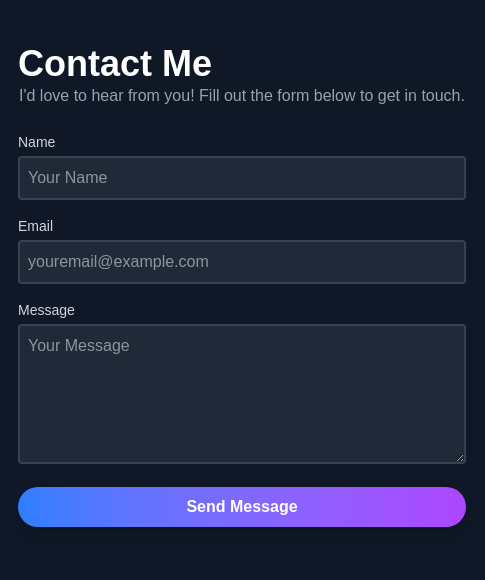
Test: shows validation errors if required fields are empty on submit
The image size is (485, 580).
Click the button "Send Message": click(242, 506) [18,486,466,526]
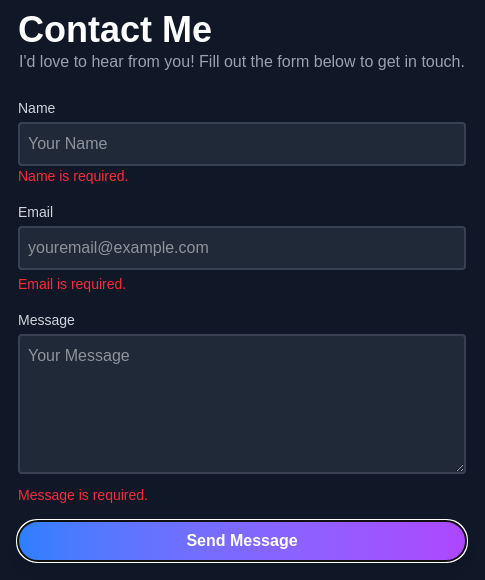
Expected: the text "Name is required." is shown, [18,168,128,184]
Expected: the text "Email is required." is shown, [18,276,126,292]
Expected: the text "Message is required." is shown, [18,486,148,502]
